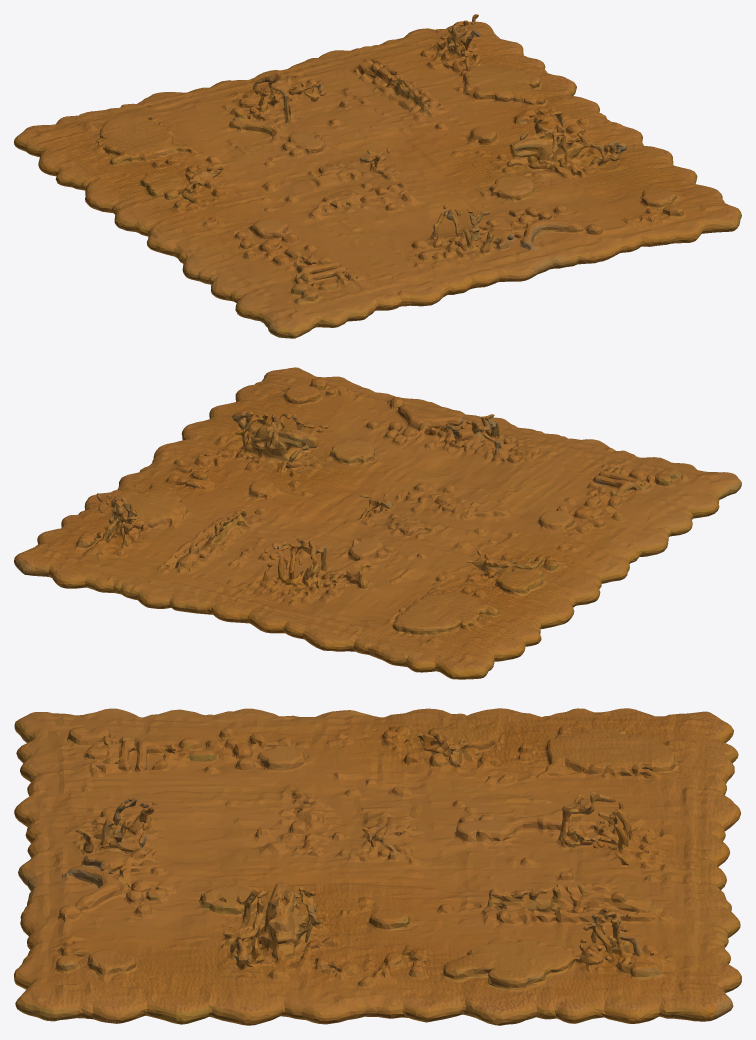
The model's file is desert-ground-9.glb.
3 views of the same model, one above another, from view 1: azimuth 30°, elevation 25°; view 2: azimuth 150°, elevation 25°; view 3: azimuth 270°, elevation 25° (orthographic). The views are drawn at different scales.
Visible parts, largest first — view 1: textured_mesh.obj; view 2: textured_mesh.obj; view 3: textured_mesh.obj.
Part boxes in pixels (x1,y1,x2,y2): textured_mesh.obj: (14,14,741,338); textured_mesh.obj: (14,367,741,679); textured_mesh.obj: (14,708,741,1025).
Size of the model in its own units: 2 by 0.2259 by 1.99.
Materials: 1 (1 with a texture image).
